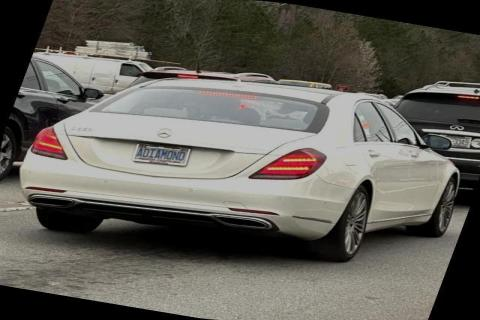LicensePlate: (129, 141, 190, 165)
